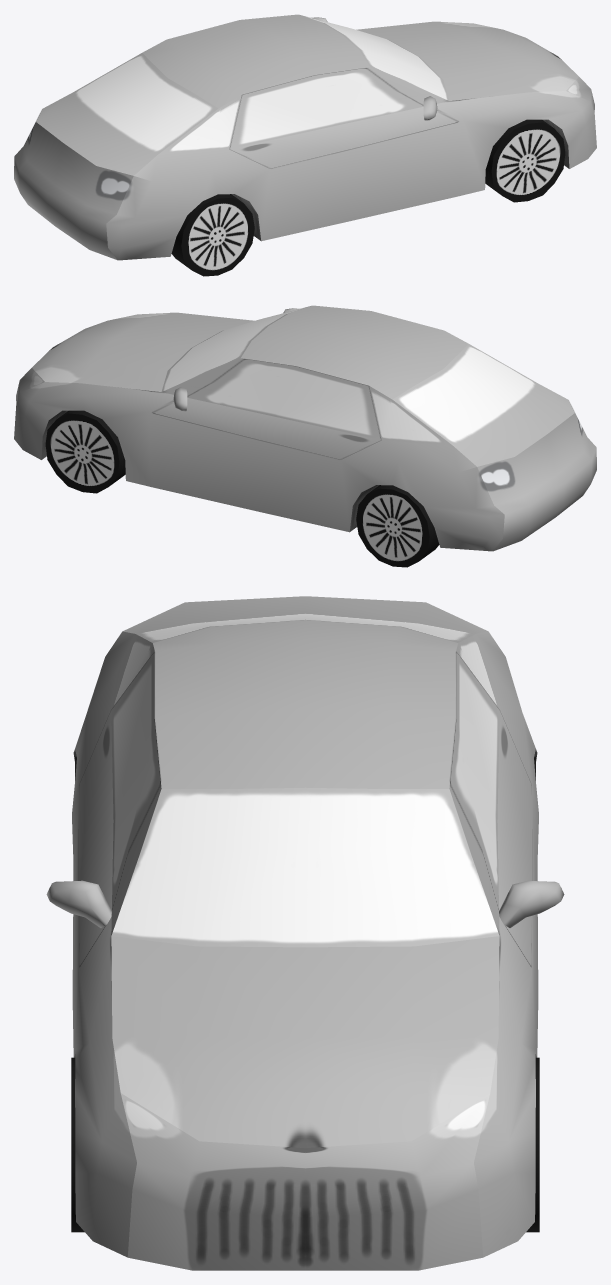
The model's file is limo.fbx.
3 views of the same model, one above another, from view 1: azimuth 30°, elevation 25°; view 2: azimuth 150°, elevation 25°; view 3: azimuth 270°, elevation 25° (orthographic). The views are drawn at different scales.
Parts seen in each view (by area): view 1: Car_Limo #lod0; view 2: Car_Limo #lod0; view 3: Car_Limo #lod0.
Boxes of the visible parts, left/top/right/bottom form: Car_Limo #lod0: left=14, top=14, right=596, bottom=276; Car_Limo #lod0: left=14, top=305, right=596, bottom=567; Car_Limo #lod0: left=46, top=596, right=564, bottom=1270.
Bounding box in the file's own units: 475 × 204 × 143.
